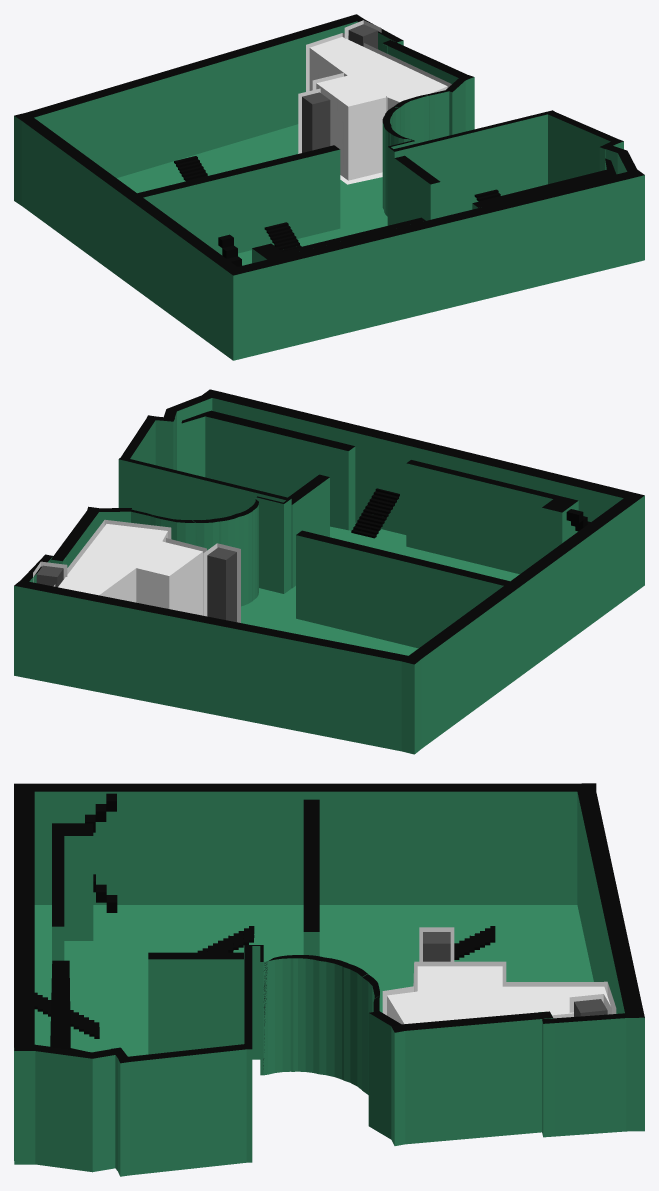
3 views of the same model, one above another, from view 1: azimuth 30°, elevation 25°; view 2: azimuth 150°, elevation 25°; view 3: azimuth 270°, elevation 25° (orthographic). The views are drawn at different scales.
Parts seen in each view (by area): view 1: object, room_9_M3_1, エレベーター_9_M3_2, object_line.002, 階段_9_M3_2, object_line, 階段_9_M3_1, エレベーター_9_M3_1; view 2: object, room_9_M3_1, エレベーター_9_M3_2, 階段_9_M3_4, object_line.002, object_line; view 3: object, room_9_M3_1, object_line.002, 階段_9_M3_5, エレベーター_9_M3_2, 階段_9_M3_4, 階段_9_M3_1, 階段_9_M3_2.
Boxes of the visible parts, x1,y1,x2,y2 form: object: [14, 14, 644, 360]; room_9_M3_1: [309, 37, 447, 180]; エレベーター_9_M3_2: [302, 92, 330, 152]; object_line.002: [306, 33, 451, 184]; 階段_9_M3_2: [264, 222, 301, 251]; object_line: [298, 88, 333, 153]; 階段_9_M3_1: [174, 156, 207, 181]; エレベーター_9_M3_1: [348, 24, 377, 48]; object: [14, 389, 644, 754]; room_9_M3_1: [58, 524, 202, 615]; エレベーター_9_M3_2: [207, 547, 236, 622]; 階段_9_M3_4: [351, 488, 399, 538]; object_line.002: [53, 519, 206, 615]; object_line: [203, 543, 240, 622]; object: [14, 783, 644, 1176]; room_9_M3_1: [387, 966, 610, 1024]; object_line.002: [382, 961, 616, 1015]; 階段_9_M3_5: [85, 793, 117, 912]; エレベーター_9_M3_2: [423, 932, 450, 961]; 階段_9_M3_4: [34, 992, 99, 1038]; 階段_9_M3_1: [454, 926, 495, 959]; 階段_9_M3_2: [197, 926, 254, 952].
Bounding box in the file's own units: 1 × 0.2033 × 0.9533.
